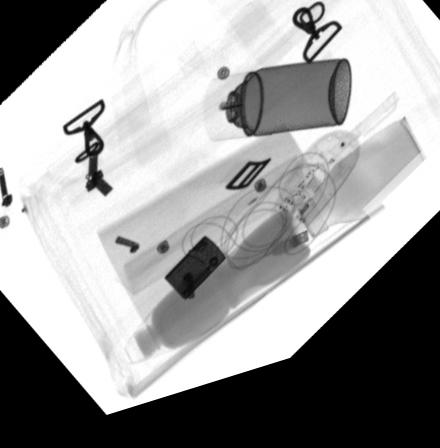Lighter: (162, 247, 225, 311)
Sprayer: (201, 81, 352, 154)
